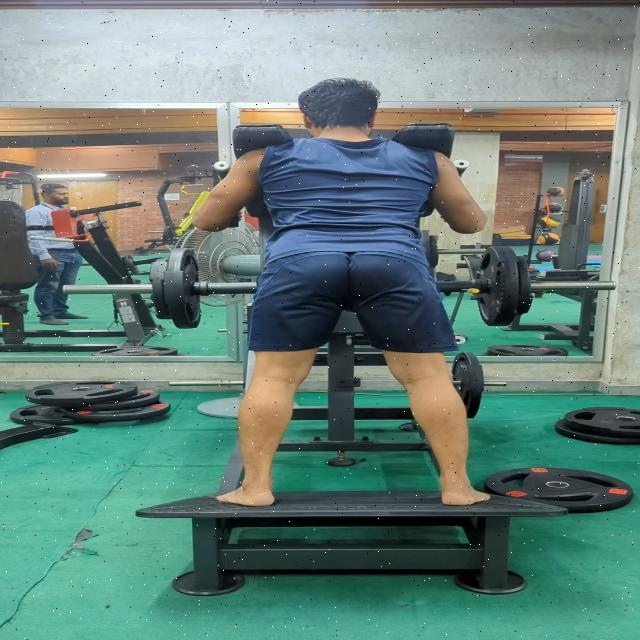Normal_SquatsWithBarbell: (172, 73, 551, 518)
